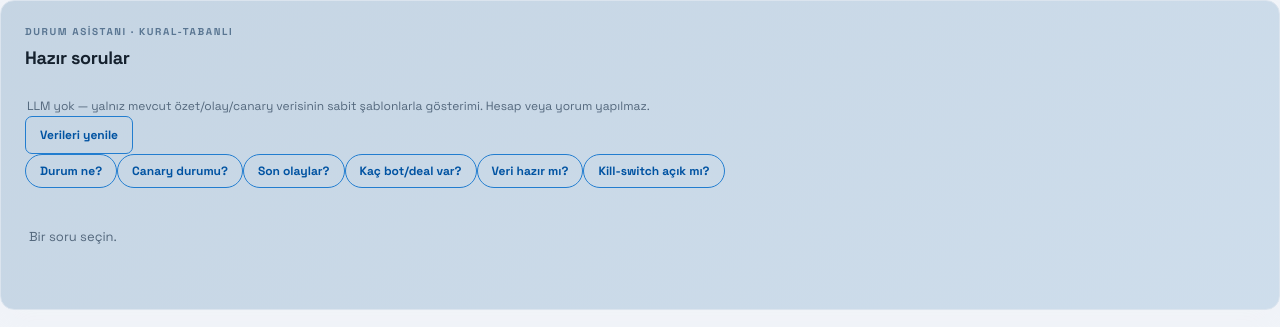
it: AssistantPanel › son-olaylar sorusu olayları listeler
This screenshot has width=1280, height=327.
Step 1. Click the button "Son olaylar?" → (294, 171), box [243,154,344,188]
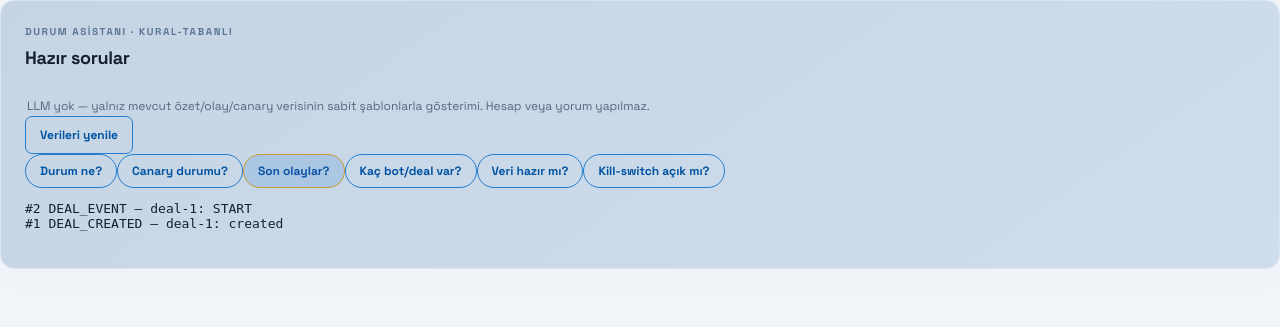
Now the text "#2 DEAL_EVENT" is shown, box [25,201,283,231]
